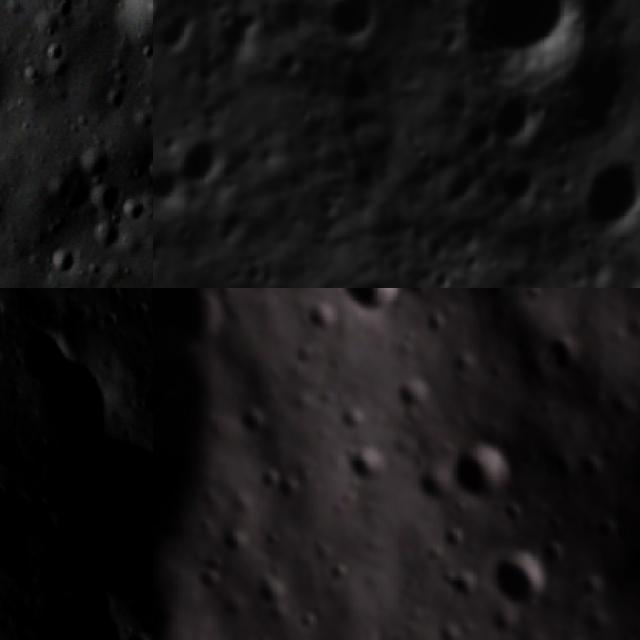crater: (452, 0, 587, 85), (565, 139, 640, 245), (470, 82, 548, 163), (168, 118, 234, 192), (442, 438, 510, 509), (153, 3, 208, 74), (494, 548, 553, 610), (484, 158, 542, 220), (323, 0, 392, 52), (259, 34, 313, 87), (112, 0, 153, 58), (337, 288, 409, 320), (345, 437, 390, 484), (153, 154, 186, 217), (86, 176, 122, 228), (442, 563, 484, 604), (89, 223, 131, 260), (252, 572, 298, 604), (396, 374, 434, 410), (544, 327, 578, 366), (448, 348, 490, 378), (48, 245, 82, 282), (234, 404, 270, 436), (484, 608, 522, 638), (577, 568, 610, 602), (192, 567, 229, 593), (252, 464, 282, 496), (221, 528, 253, 554), (292, 608, 323, 633), (438, 522, 469, 547), (578, 452, 604, 481), (323, 560, 354, 584), (432, 617, 464, 640), (498, 429, 523, 458), (590, 514, 616, 541), (544, 538, 568, 566), (496, 498, 525, 520), (540, 456, 561, 484), (201, 552, 233, 569), (280, 473, 300, 499), (308, 534, 332, 554), (264, 529, 284, 549), (426, 542, 444, 564), (514, 459, 535, 477), (450, 496, 470, 514), (320, 0, 362, 8), (0, 293, 11, 321), (189, 627, 211, 640)
